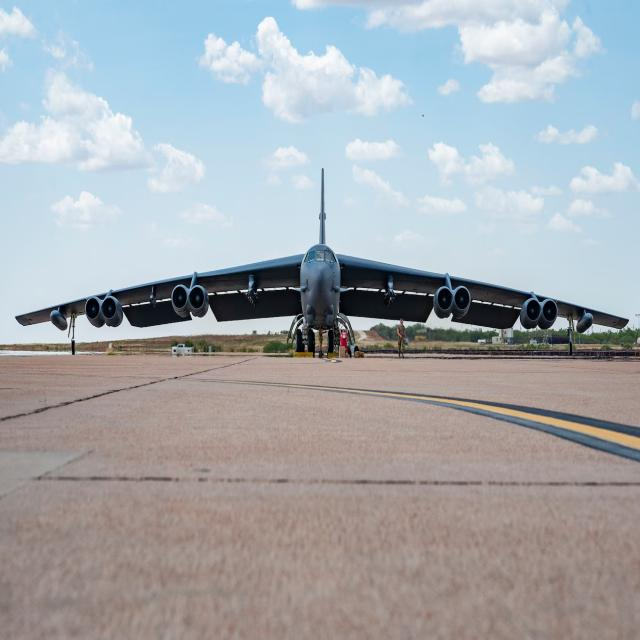B52: (0, 142, 638, 390)
